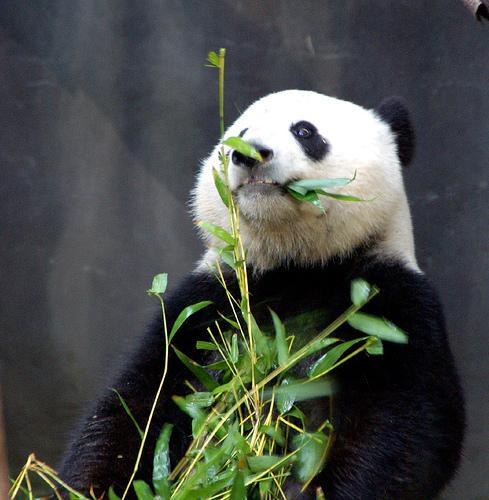panda: (61, 90, 464, 499)
